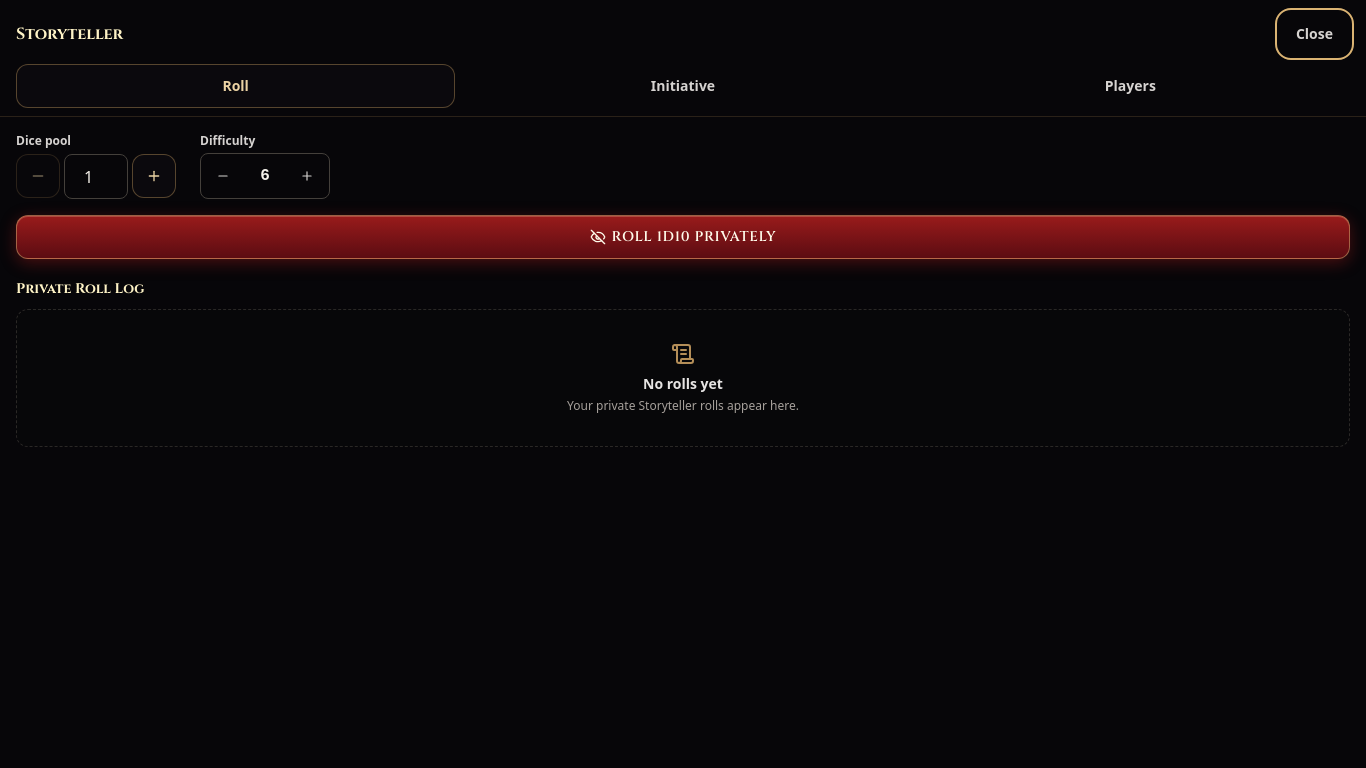
Test: StorytellerPanel › lists live seats with read-only sheet stats or light trackers
Click the tab "Players" at x=1130, y=86, box [911,64,1350,108]
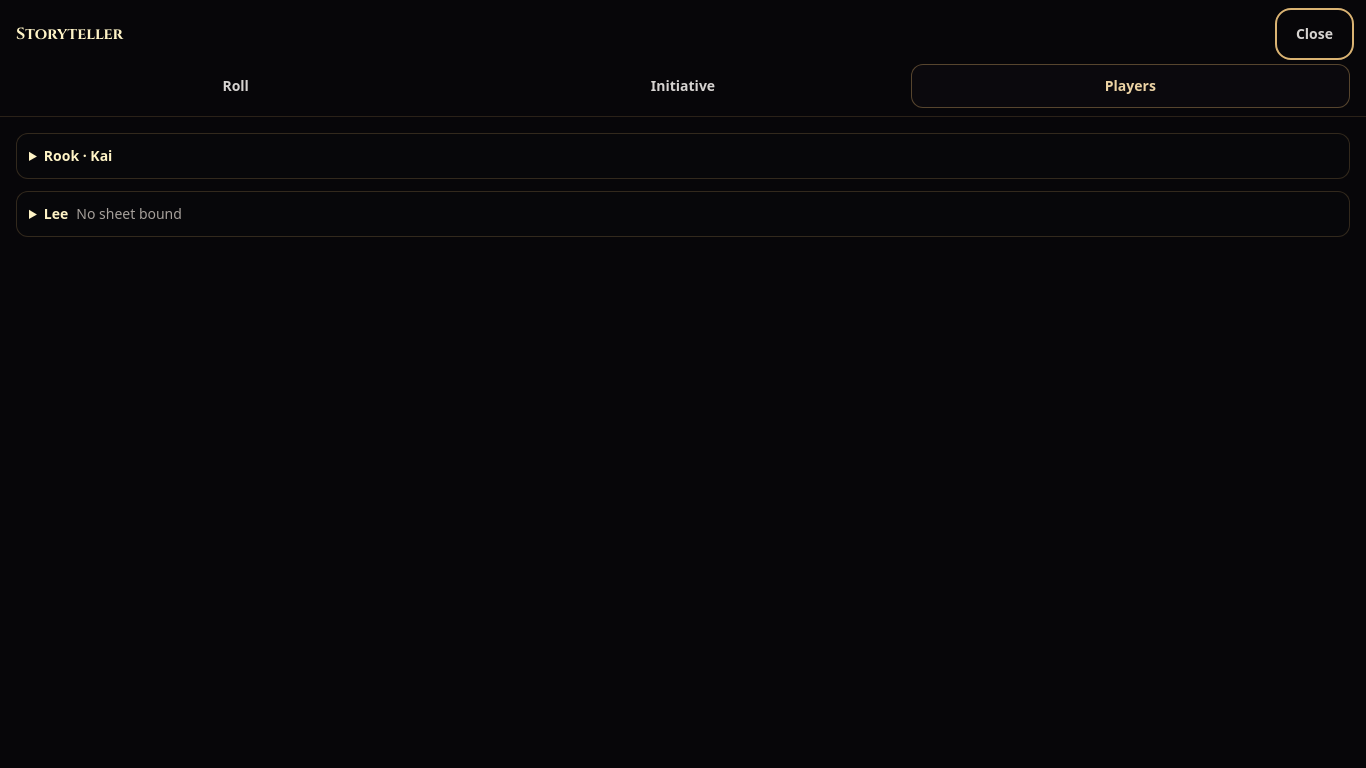
Click the heading "Rook · Kai" at x=78, y=156, box [44,146,112,165]
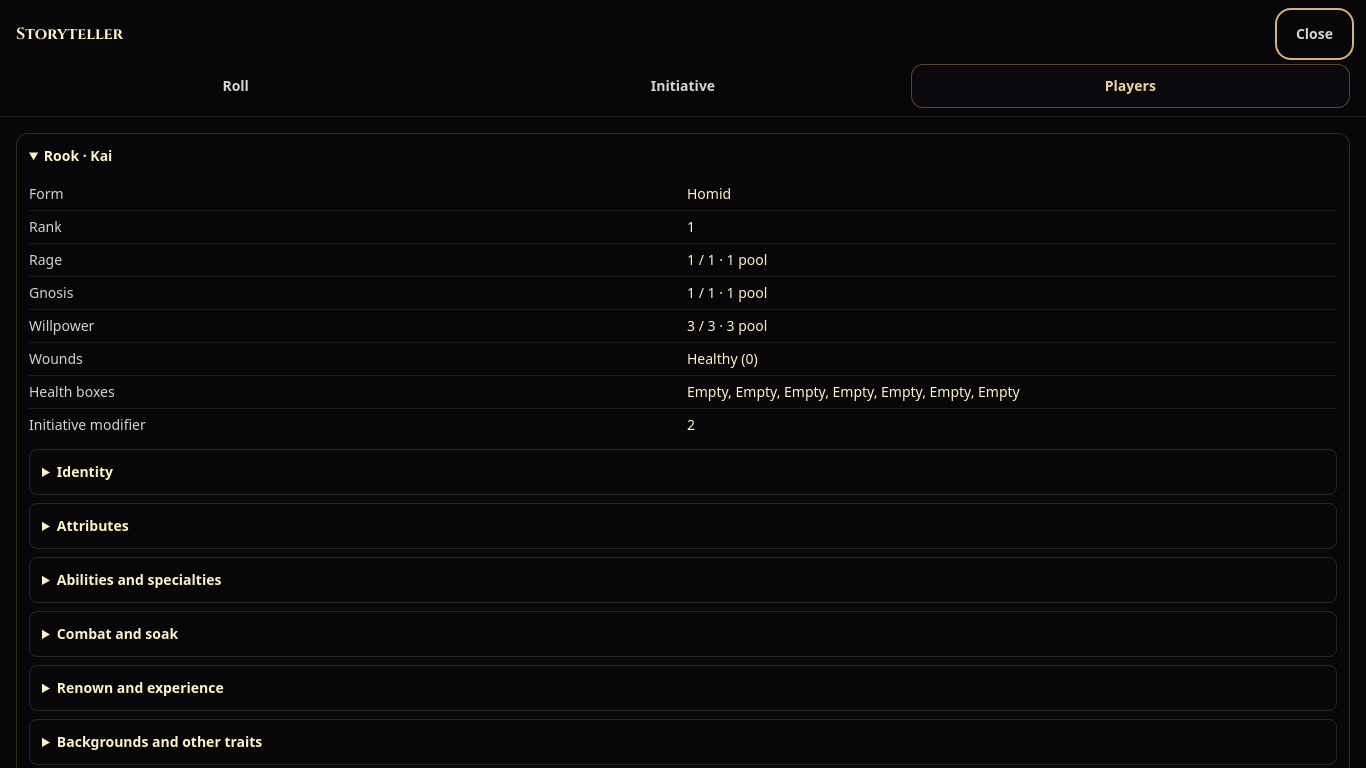
Click the heading "Attributes" at x=93, y=526, box [57,516,129,535]
(page scrolled)
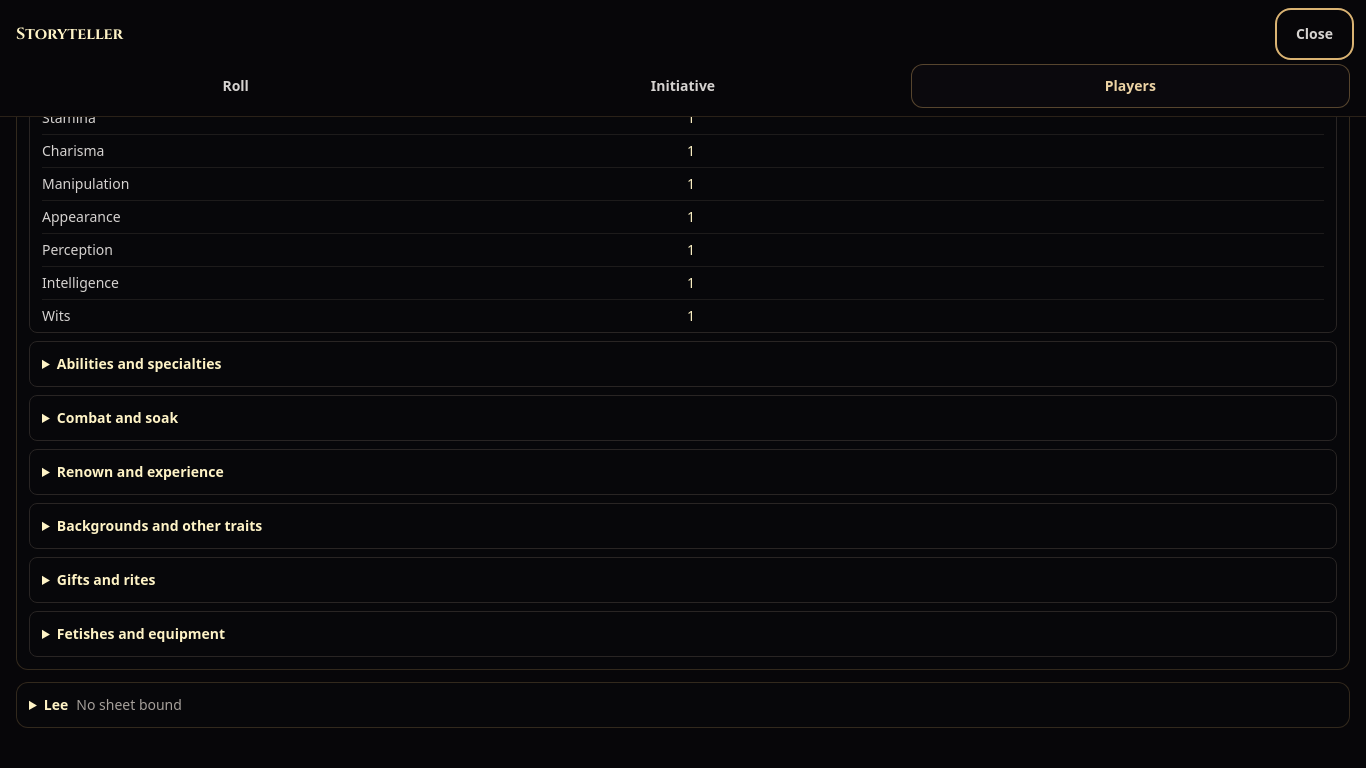
Click the text "No sheet bound" at x=129, y=704, box [76,695,182,714]
(page scrolled)
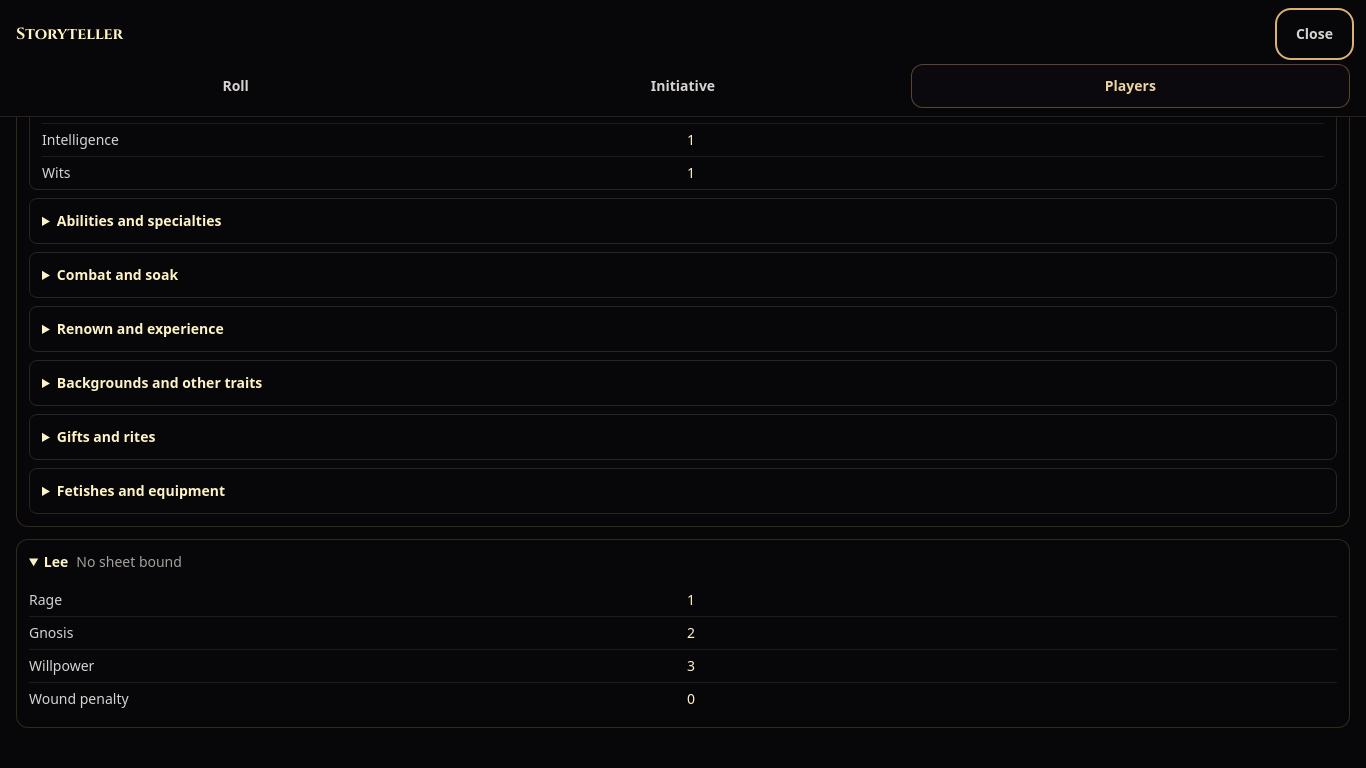
Now the text "Wound penalty" is shown, box [29,689,129,708]
